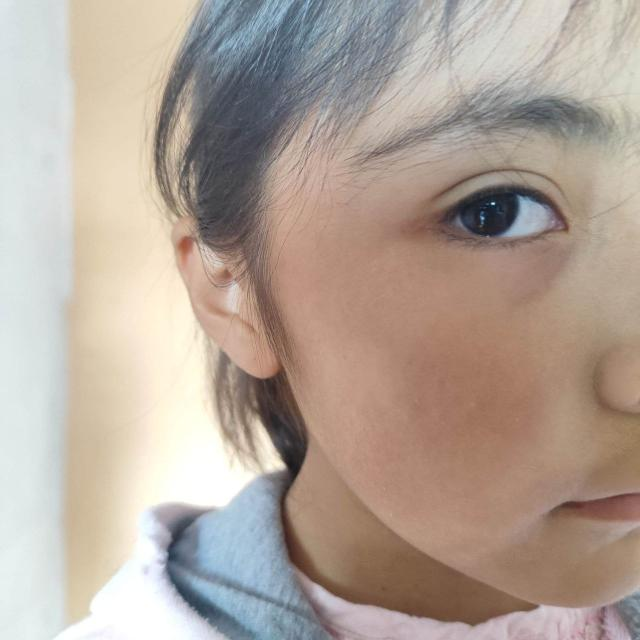ear: (172, 218, 282, 379)
